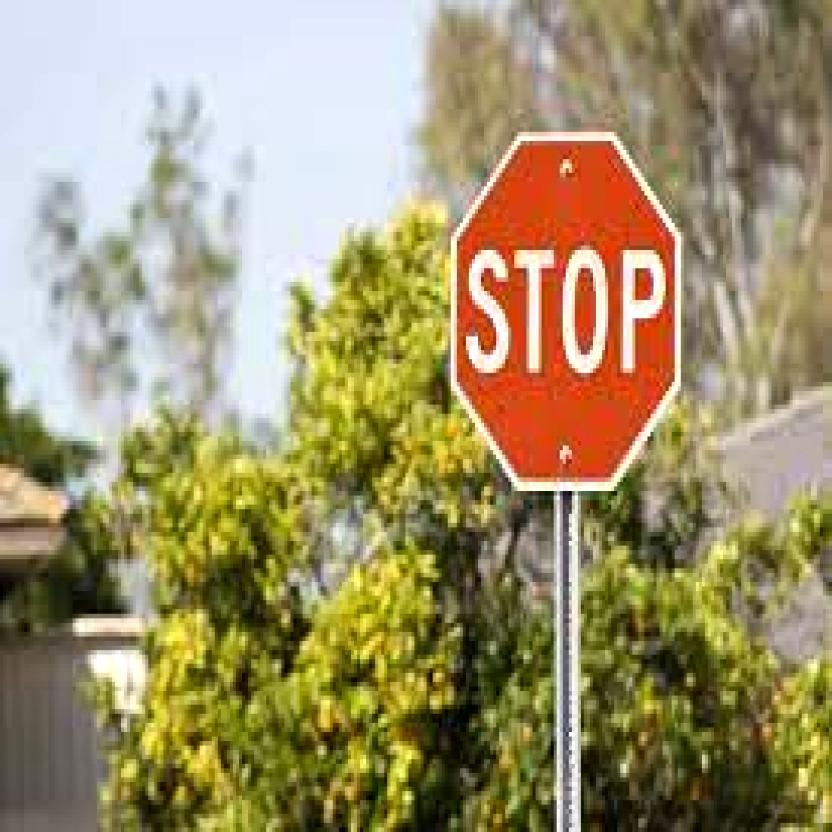Pole: (554, 498, 582, 829)
Sign: (452, 128, 678, 487)
